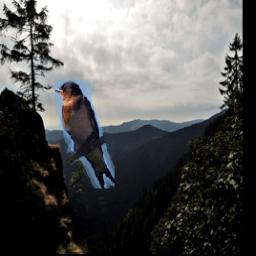Swallow: (55, 80, 116, 188)
